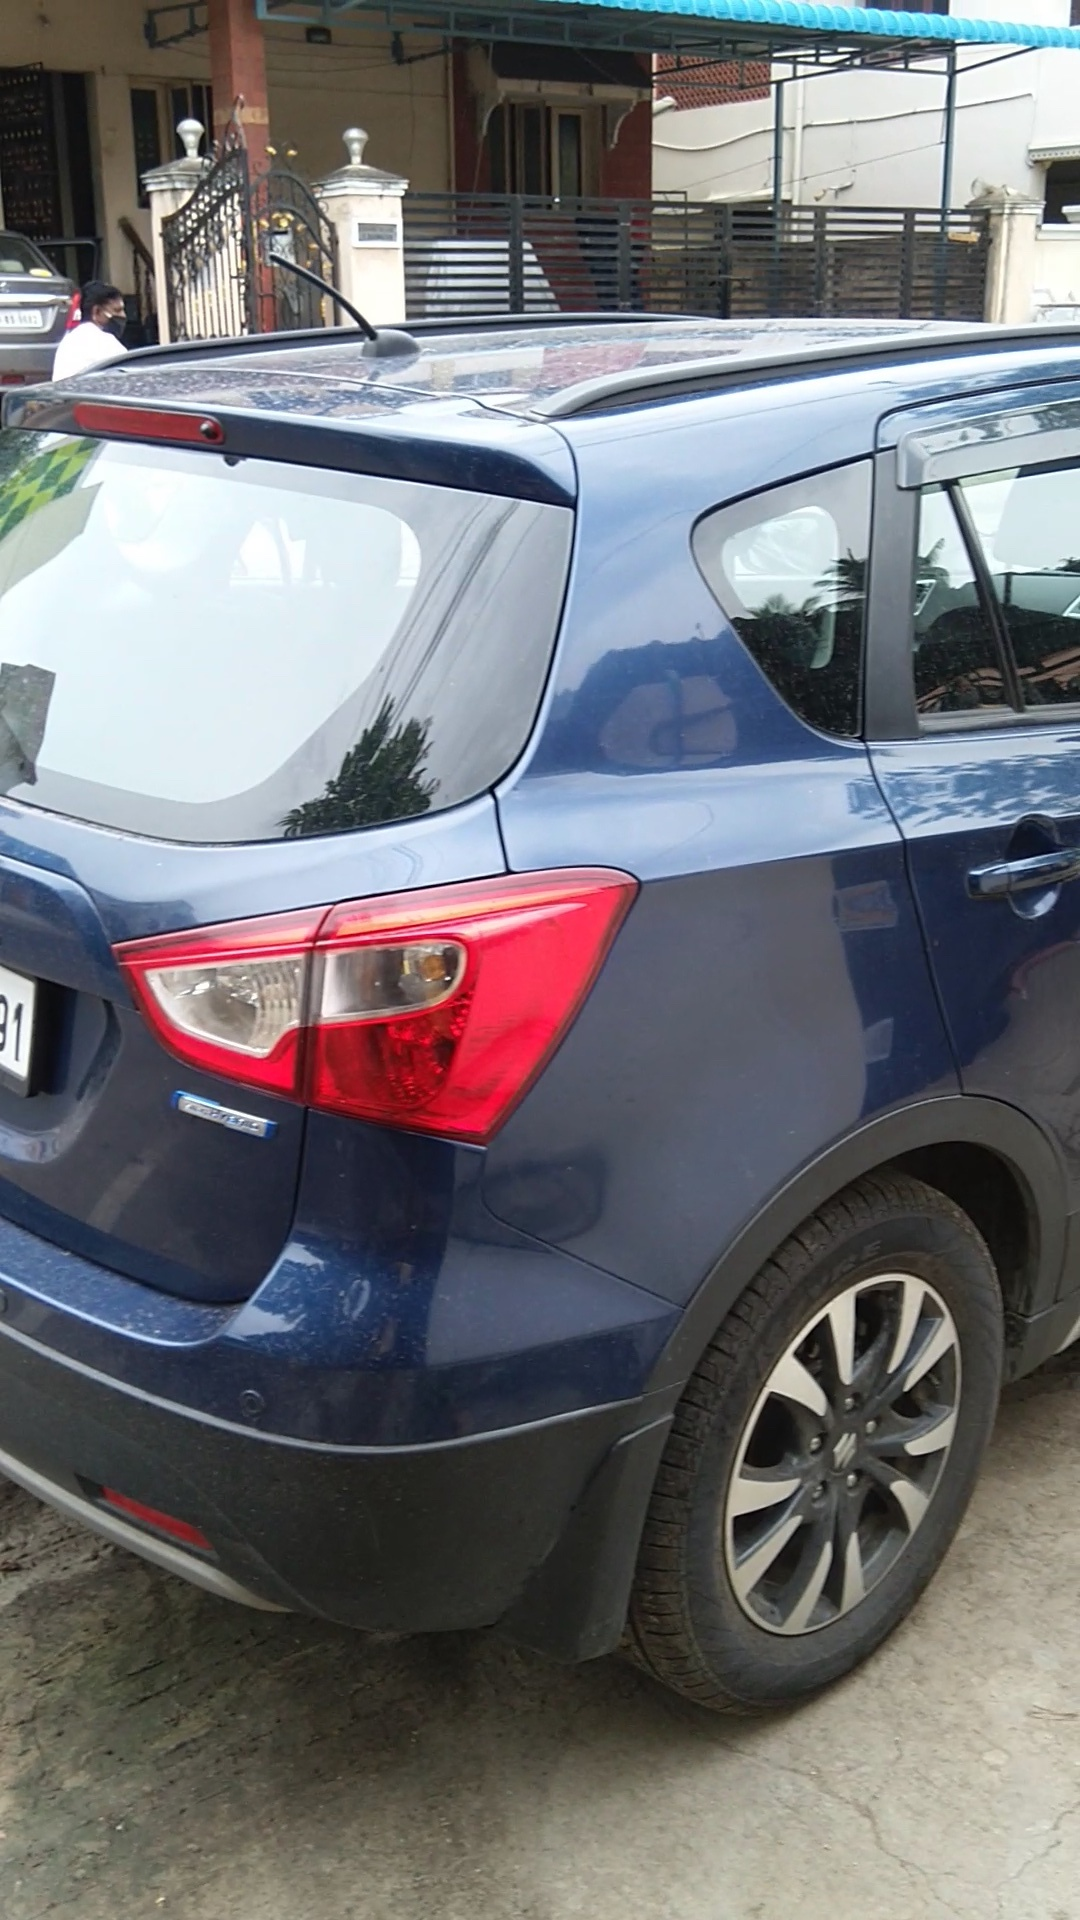alloy_wheel: (624, 1167, 1014, 1730)
rear_camera: (194, 417, 229, 450)
shvs: (156, 1072, 280, 1147)
